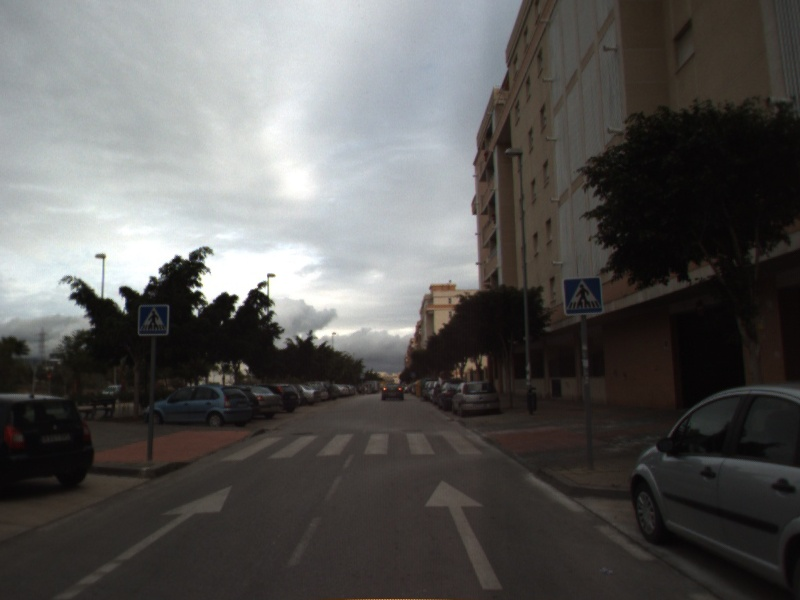STRAIGHT: (48, 483, 234, 600), (422, 478, 505, 591)
